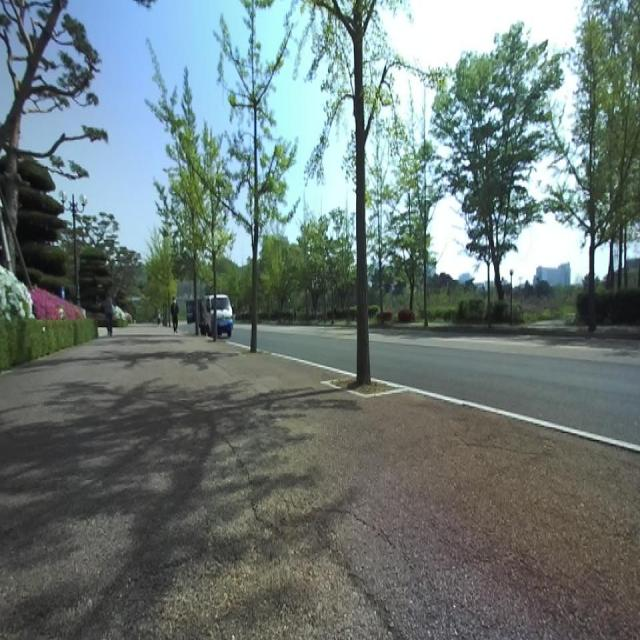sidewalk: (0, 324, 640, 639)
